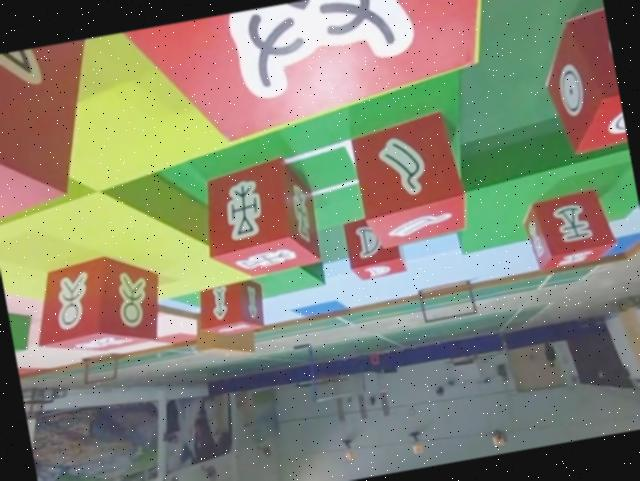R2 Real: (115, 0, 508, 160), (190, 150, 325, 286), (22, 245, 167, 369), (348, 110, 474, 250), (528, 0, 629, 162), (514, 187, 621, 275), (188, 271, 271, 346), (339, 215, 408, 285)
